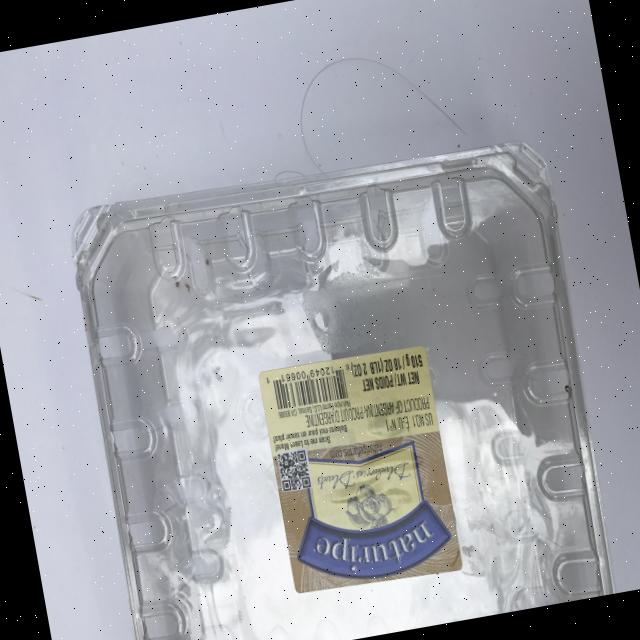plastic: (61, 126, 623, 640)
